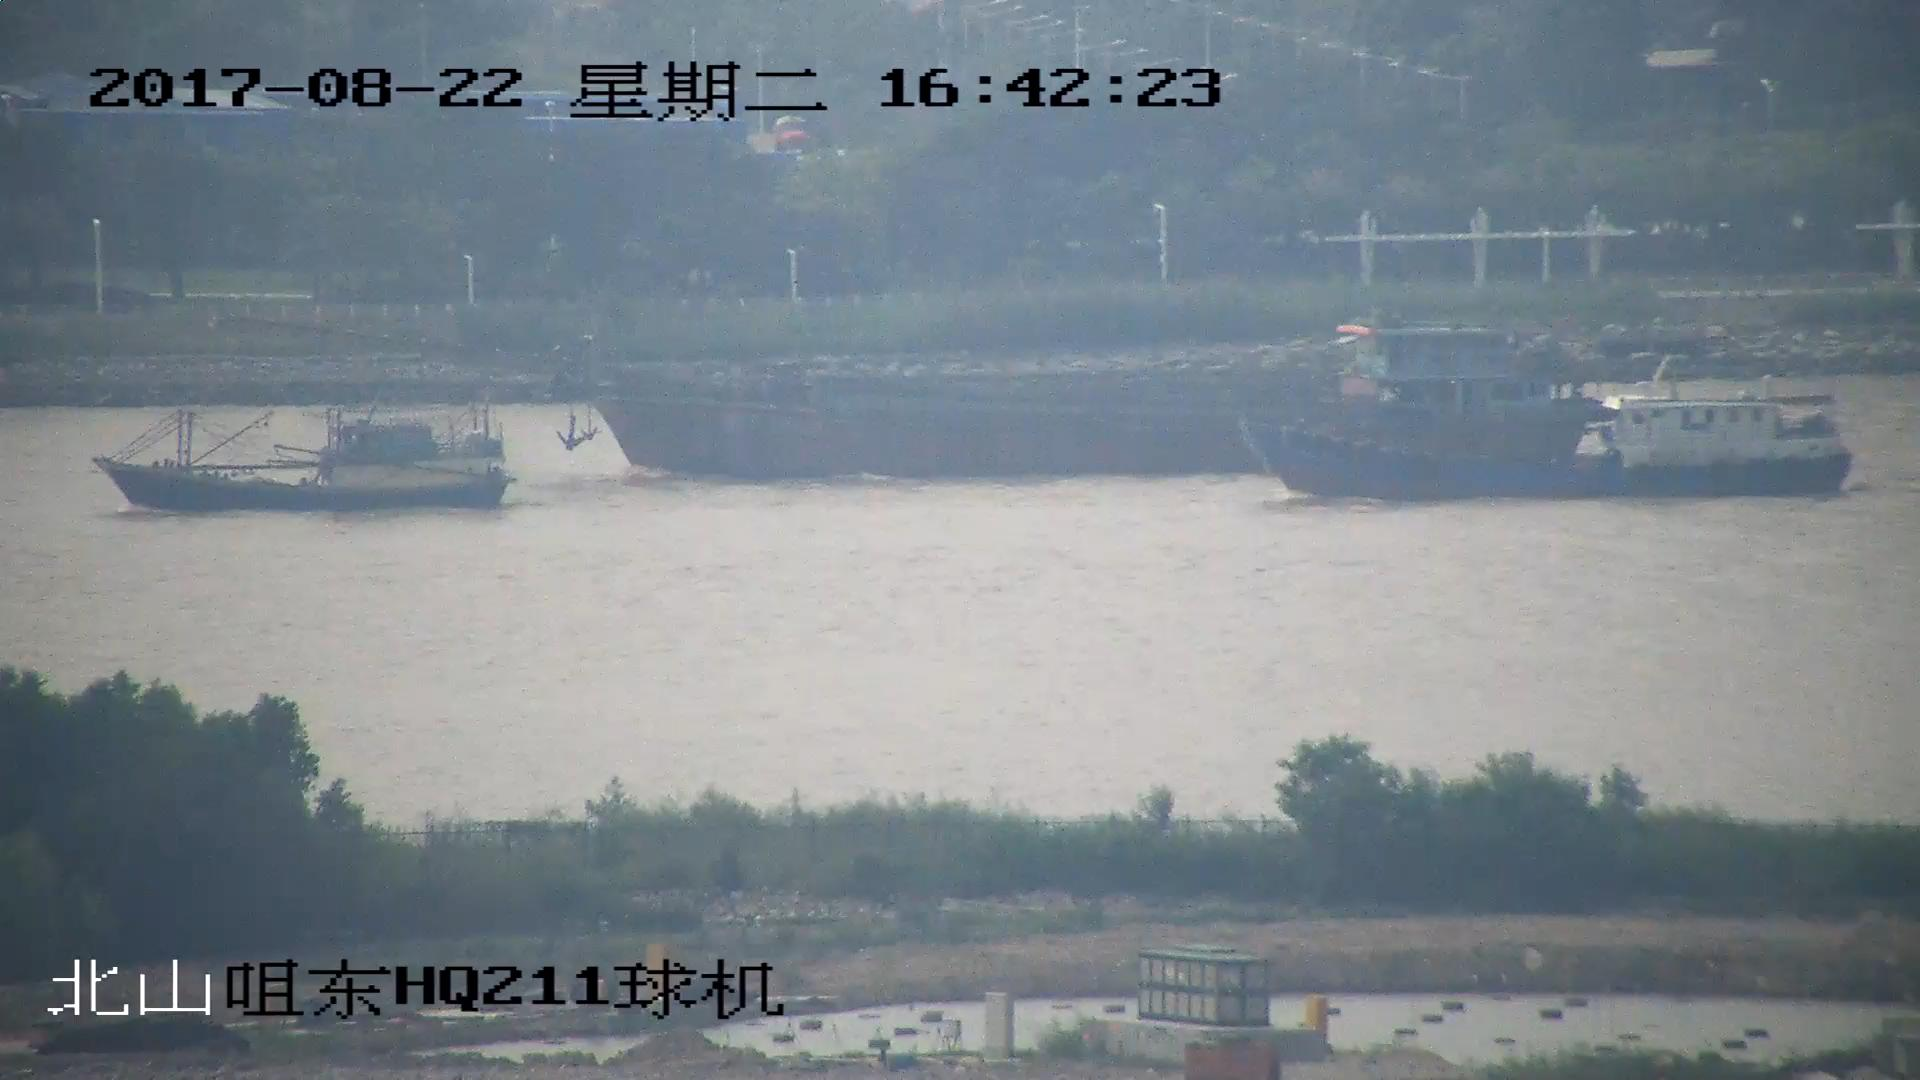bulk cargo carrier: (231, 308, 1608, 474)
fishing boat: (1244, 390, 1855, 503), (87, 399, 514, 507)
